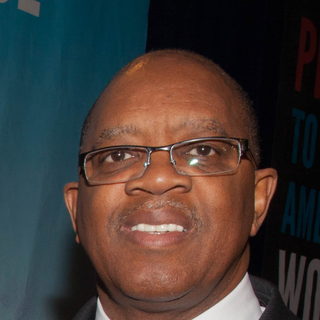eye: (99, 149, 143, 171), (182, 142, 223, 162)
